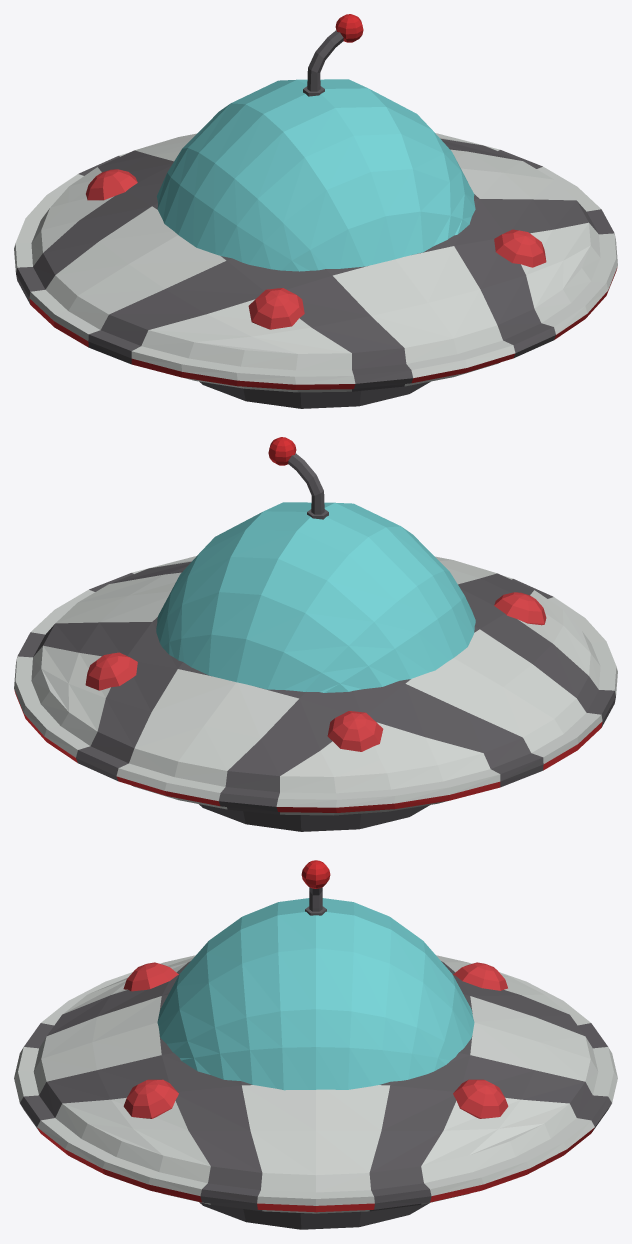
File: ufo_new.fbx
3 renders of one model, top to bottom at view 1: azimuth 30°, elevation 25°; view 2: azimuth 150°, elevation 25°; view 3: azimuth 270°, elevation 25°, orthographic.
Parts seen in each view (by area): view 1: Cylinder.007; view 2: Cylinder.007; view 3: Cylinder.007.
Part boxes in pixels (x1,y1,x2,y2): Cylinder.007: [14, 14, 617, 408]; Cylinder.007: [14, 437, 617, 831]; Cylinder.007: [14, 860, 617, 1229].
Size of the model in its own units: 41.71 by 25.77 by 41.71.
